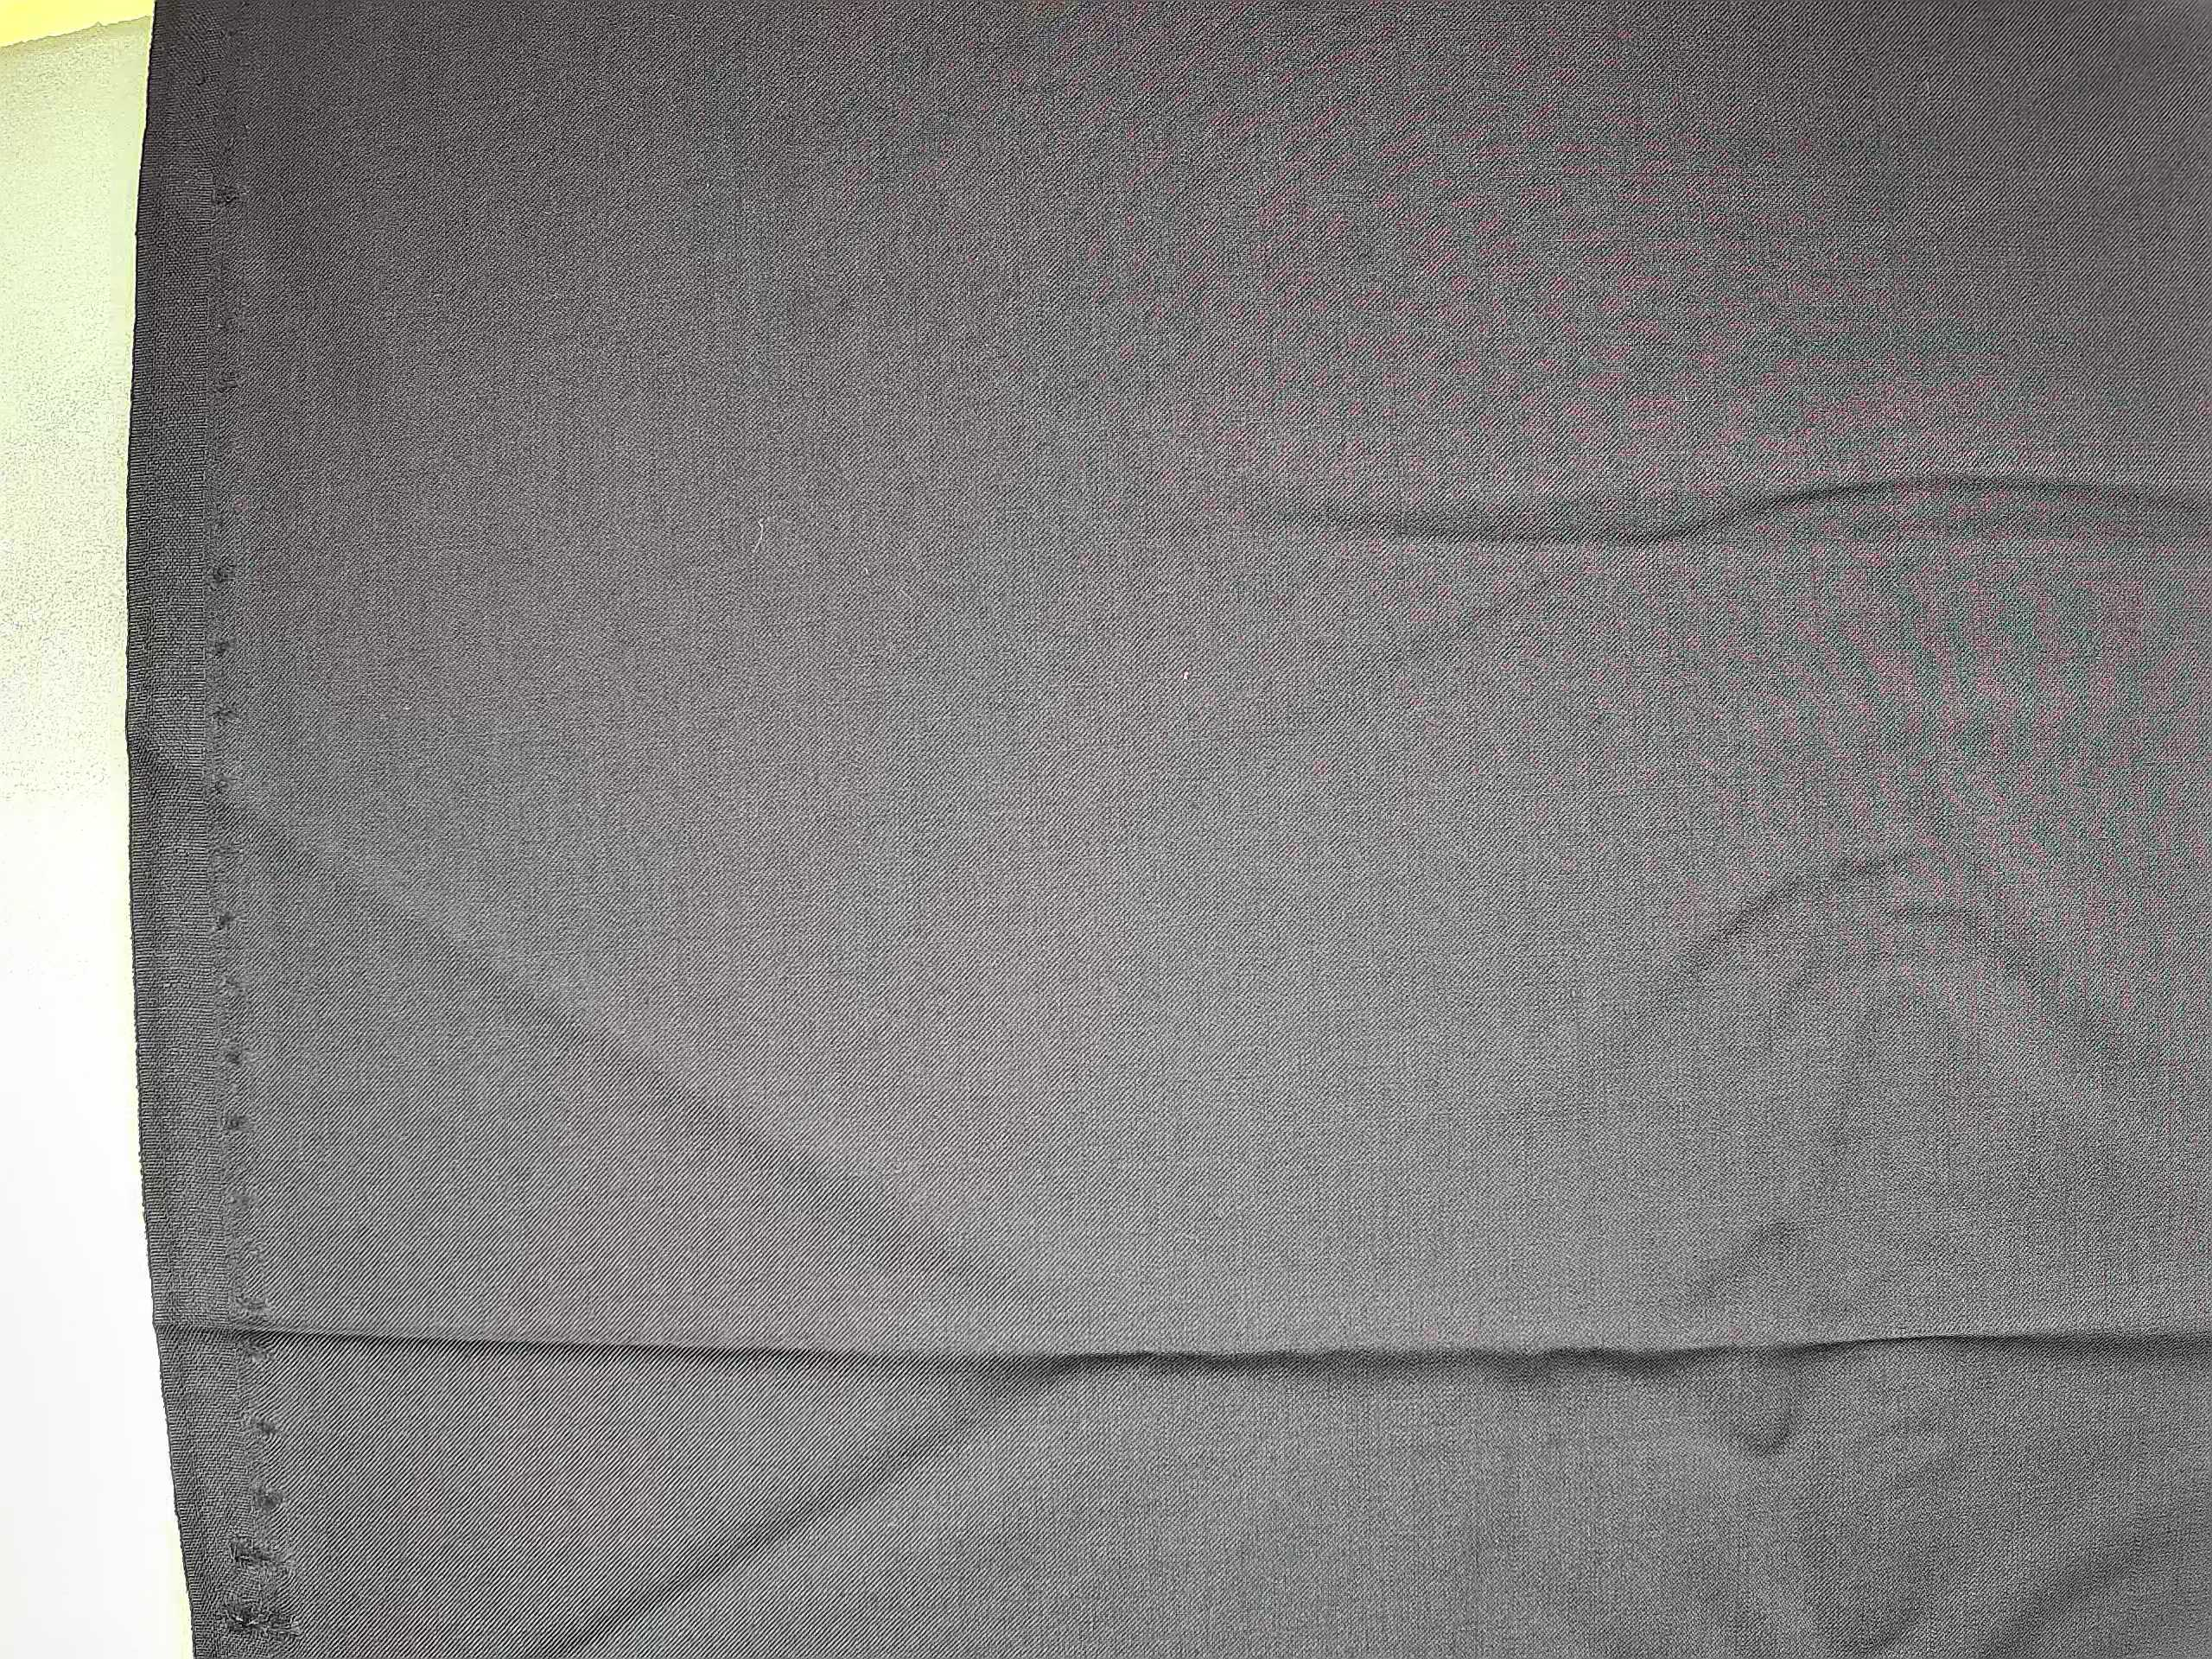puncture-hole: (200, 561, 298, 1647)
